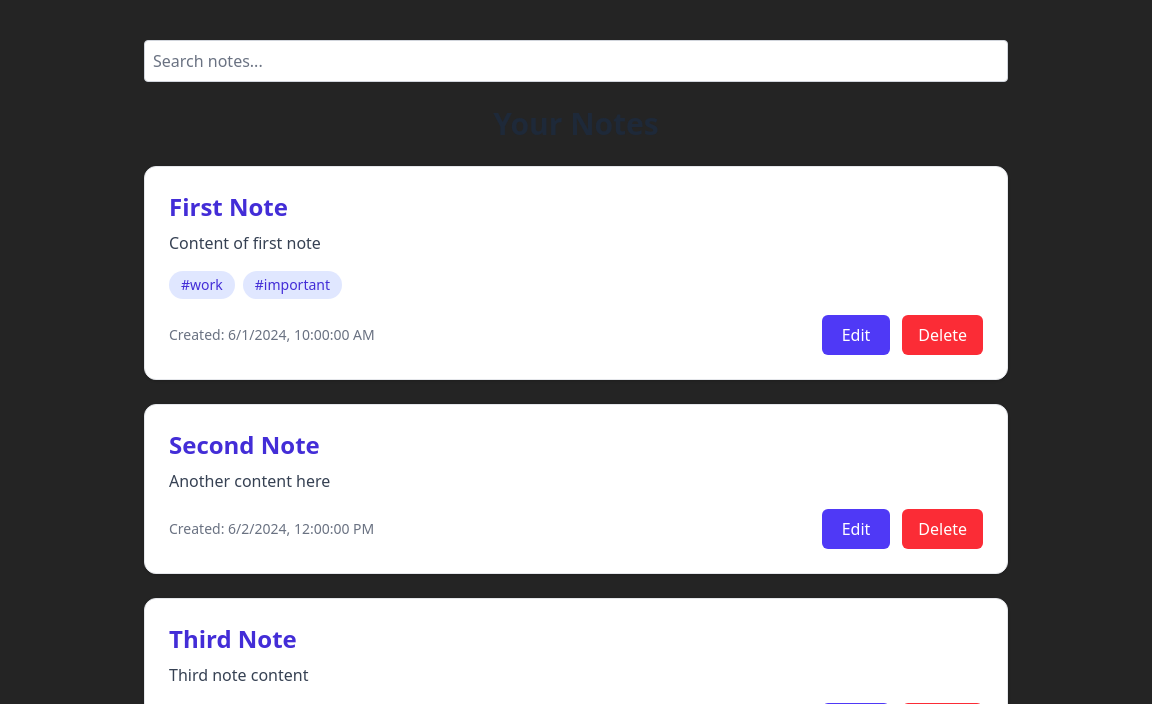
Scenario: NotesList › filters notes based on search input
Type "third" into the field with placeholder "Search notes..." at (576, 61), box [144, 40, 1008, 82]
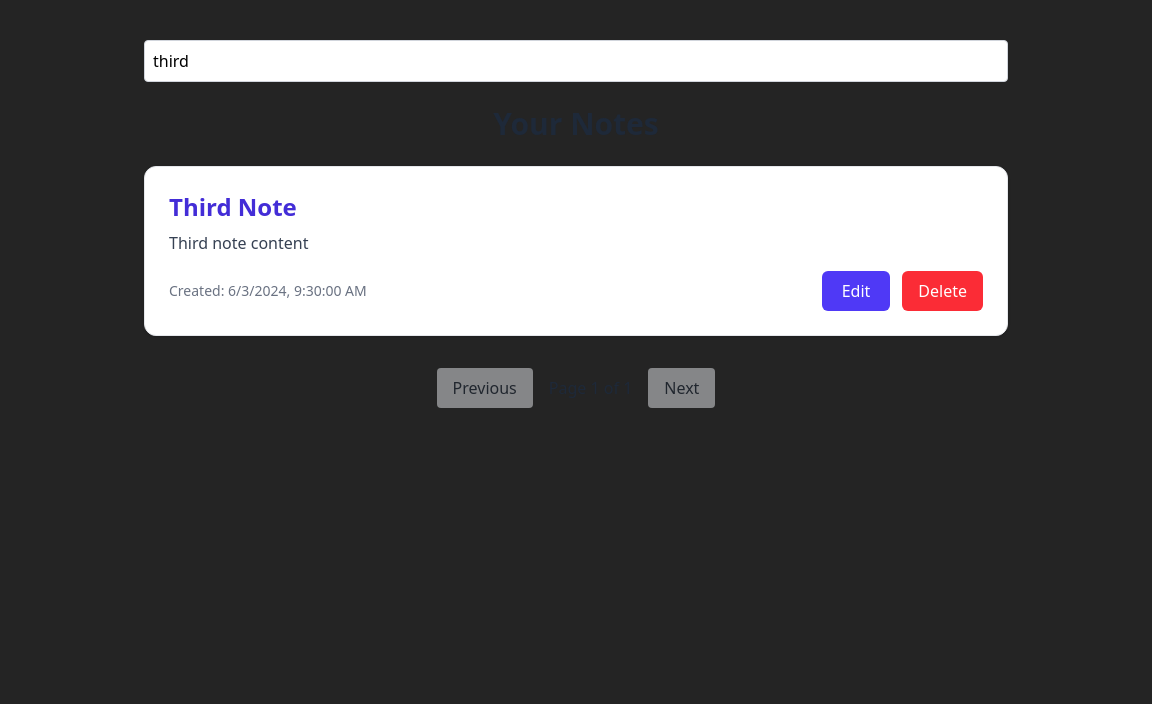
Expected: the heading "Third Note" is shown, [169, 190, 297, 223]
Expected: the heading "First Note" is gone
Expected: the heading "Second Note" is gone
